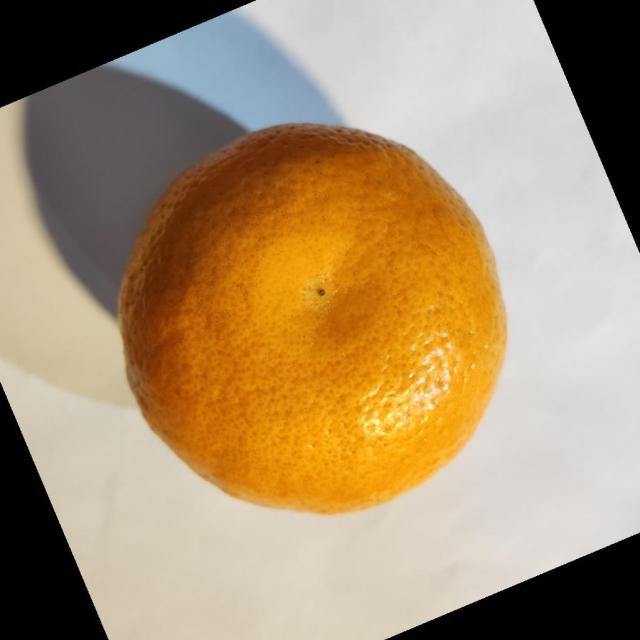agrume: (116, 121, 508, 515)
